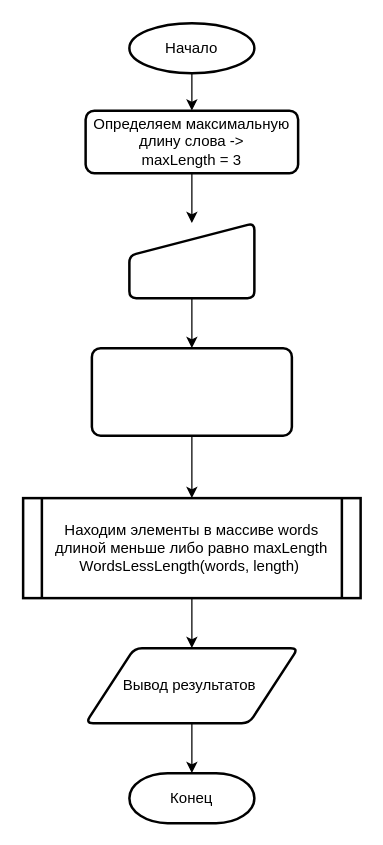
The diagram is 383 pixels wide and 845 high, and some of its shapes have lost their labels. The box of each missing label's shape, as (x1, y1, x2, y2) in pixels:
Ввод строки str: (128, 221, 255, 299)
Разбиение строки str на слова, разделитель пробел -> результат в массив words: (90, 346, 292, 436)
